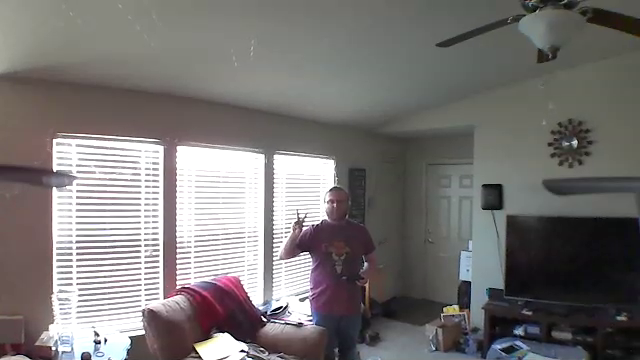peace: (290, 207, 309, 235)
